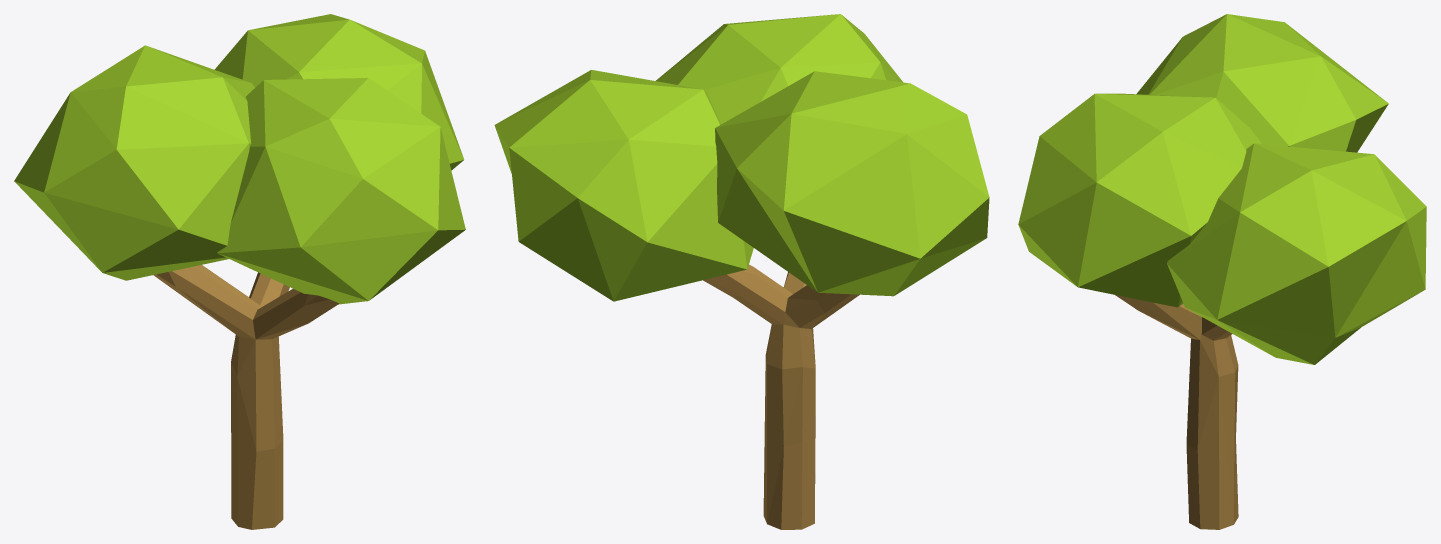
File: Tree01.fbx
3 renders of one model, left to right at view 1: azimuth 30°, elevation 25°; view 2: azimuth 150°, elevation 25°; view 3: azimuth 270°, elevation 25°, orthographic. The views are drawn at different scales.
Parts seen in each view (by area): view 1: Tree01; view 2: Tree01; view 3: Tree01.
Part boxes in pixels (x1,y1,x2,y2): Tree01: (14,14,465,529); Tree01: (494,14,989,529); Tree01: (1018,14,1426,529).
Bounding box in the file's own units: 3.74 × 3.81 × 3.15.
